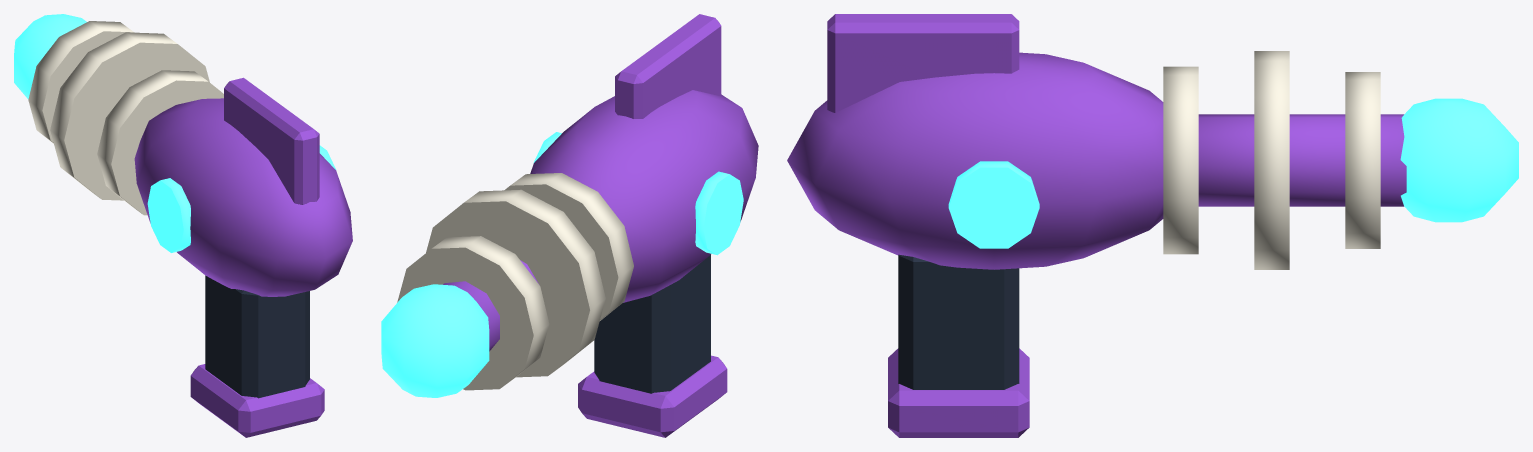
The model's file is fps_w_zap.glb.
3 views of the same model, side by side, from view 1: azimuth 30°, elevation 25°; view 2: azimuth 150°, elevation 25°; view 3: azimuth 270°, elevation 25° (orthographic). The views are drawn at different scales.
Parts seen in each view (by area): view 1: detail_Grape, detail_Vanilla plastic, grip, detail_Ray cyan, muzzle_tip; view 2: detail_Grape, detail_Vanilla plastic, grip, muzzle_tip, detail_Ray cyan; view 3: detail_Grape, detail_Vanilla plastic, grip, muzzle_tip, detail_Ray cyan.
Boxes of the visible parts, bbox=[...] form: detail_Grape: bbox=[134, 77, 352, 437]; detail_Vanilla plastic: bbox=[28, 21, 223, 215]; grip: bbox=[205, 275, 309, 398]; detail_Ray cyan: bbox=[147, 145, 336, 252]; muzzle_tip: bbox=[14, 14, 86, 99]; detail_Grape: bbox=[443, 14, 758, 437]; detail_Vanilla plastic: bbox=[397, 173, 633, 390]; grip: bbox=[594, 255, 710, 393]; muzzle_tip: bbox=[381, 284, 489, 397]; detail_Ray cyan: bbox=[533, 132, 743, 255]; detail_Grape: bbox=[787, 14, 1406, 437]; detail_Vanilla plastic: bbox=[1163, 51, 1380, 269]; grip: bbox=[898, 254, 1019, 389]; muzzle_tip: bbox=[1400, 98, 1518, 222]; detail_Ray cyan: bbox=[948, 161, 1039, 248].
Bounding box in the file's own units: 0.216 × 0.42 × 0.7.
